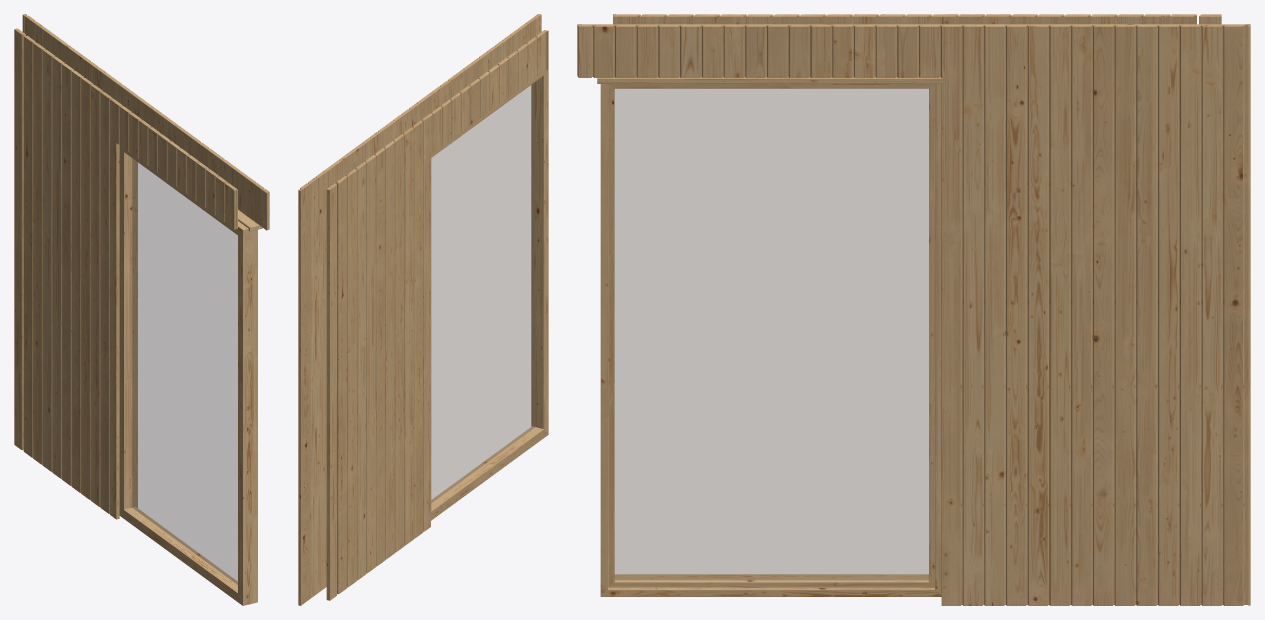
File: Roundy_Sein_B_Aknaga.glb
3 renders of one model, left to right at view 1: azimuth 30°, elevation 25°; view 2: azimuth 150°, elevation 25°; view 3: azimuth 270°, elevation 25°, orthographic. The views are drawn at different scales.
Parts seen in each view (by area): view 1: Rectangle842, Roundy Klaas_003, Rectangle816, Rectangle825, Rectangle814, Rectangle843; view 2: Rectangle842, Roundy Klaas_003, Rectangle843, Rectangle816, Rectangle825, Rectangle814; view 3: Rectangle843, Roundy Klaas_003, Rectangle816, Rectangle814, Rectangle825, Rectangle842, Box2131641147.
Part boxes in pixels (x1=…): Rectangle842: x1=14, y1=28, x2=117, y2=518; Roundy Klaas_003: x1=132, y1=159, x2=237, y2=584; Rectangle816: x1=119, y1=146, x2=257, y2=605; Rectangle825: x1=115, y1=102, x2=237, y2=519; Rectangle814: x1=134, y1=95, x2=269, y2=507; Rectangle843: x1=22, y1=14, x2=137, y2=113; Rectangle842: x1=326, y1=116, x2=429, y2=600; Roundy Klaas_003: x1=431, y1=82, x2=535, y2=502; Rectangle843: x1=298, y1=109, x2=410, y2=605; Rectangle816: x1=431, y1=69, x2=548, y2=520; Rectangle825: x1=427, y1=30, x2=548, y2=527; Rectangle814: x1=408, y1=14, x2=541, y2=127; Rectangle843: x1=943, y1=24, x2=1250, y2=605; Roundy Klaas_003: x1=615, y1=89, x2=928, y2=579; Rectangle816: x1=600, y1=84, x2=941, y2=596; Rectangle814: x1=577, y1=24, x2=942, y2=605; Rectangle825: x1=613, y1=14, x2=942, y2=24; Rectangle842: x1=943, y1=14, x2=1221, y2=24; Box2131641147: x1=597, y1=77, x2=942, y2=83.
Size of the model in its own units: 0.1234 by 2.12 by 2.23.
2 materials, 1 textured.
